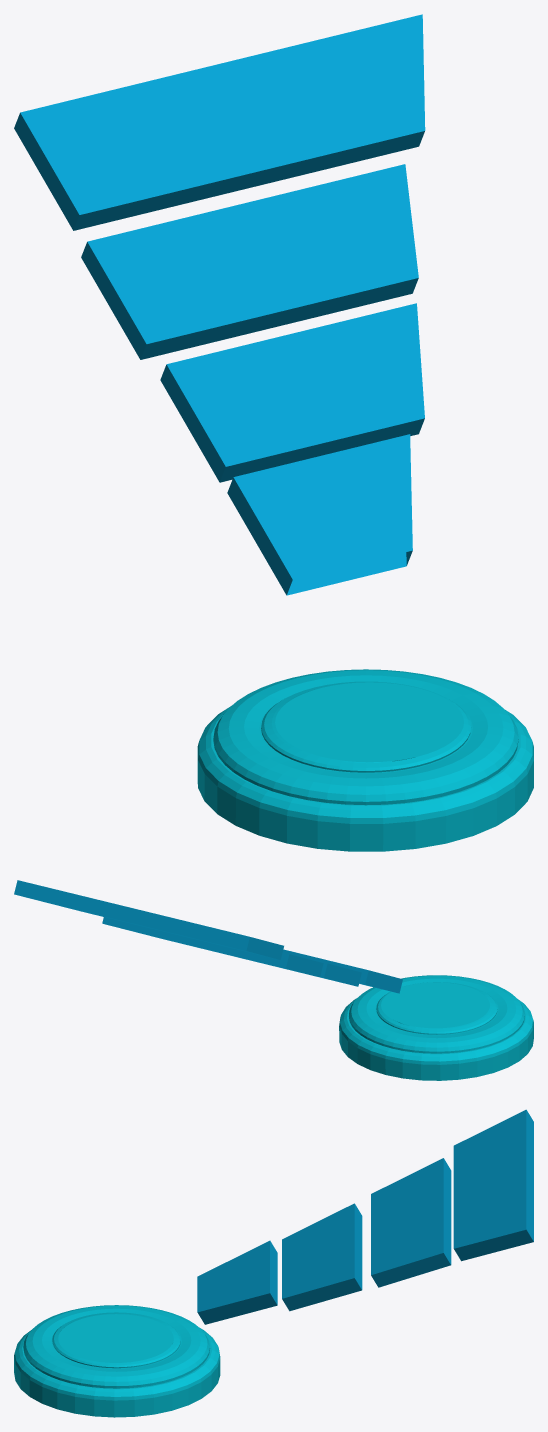
File: menu 4B .fbx
The picture shows the model from 3 angles, top to bottom: view 1: azimuth 30°, elevation 25°; view 2: azimuth 150°, elevation 25°; view 3: azimuth 270°, elevation 25°; orthographic projection. The views are drawn at different scales.
Visible parts, largest first — view 1: Cube.000, Cube.004, Cube.005, Cube.003, Cube.002; view 2: Cube.004, Cube.000, Cube.005, Cube.002, Cube.003; view 3: Cube.004, Cube.000, Cube.005, Cube.003, Cube.002.
Boxes of the visible parts, left/top/right/bottom form: Cube.000: left=14, top=14, right=425, bottom=230; Cube.004: left=197, top=669, right=533, bottom=851; Cube.005: left=81, top=164, right=418, bottom=359; Cube.003: left=160, top=303, right=424, bottom=482; Cube.002: left=227, top=434, right=412, bottom=595; Cube.004: left=339, top=975, right=533, bottom=1080; Cube.000: left=14, top=880, right=283, bottom=959; Cube.005: left=102, top=917, right=323, bottom=977; Cube.002: left=282, top=949, right=402, bottom=993; Cube.003: left=297, top=956, right=361, bottom=986; Cube.004: left=14, top=1305, right=220, bottom=1417; Cube.000: left=453, top=1109, right=533, bottom=1261; Cube.005: left=371, top=1158, right=451, bottom=1287; Cube.003: left=282, top=1203, right=362, bottom=1311; Cube.002: left=197, top=1240, right=277, bottom=1324.
Size of the model in its own units: 368 by 279 by 503.
